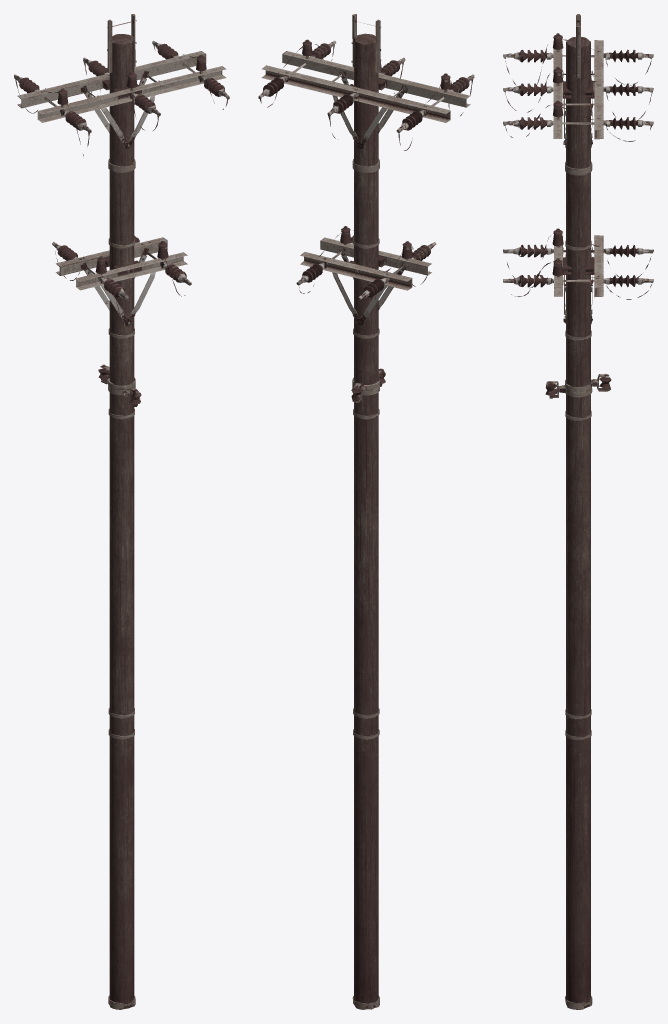
The model's file is electricity_pole_02.glb.
3 renders of one model, left to right at view 1: azimuth 30°, elevation 25°; view 2: azimuth 150°, elevation 25°; view 3: azimuth 270°, elevation 25°, orthographic.
Parts seen in each view (by area): view 1: body; view 2: body; view 3: body.
Part boxes in pixels (bbox=[...]): body: bbox=[14, 14, 229, 1009]; body: bbox=[258, 14, 474, 1009]; body: bbox=[503, 14, 653, 1009].
Size of the model in its own units: 1.2 by 6.13 by 0.8522.
1 material, 1 textured.
